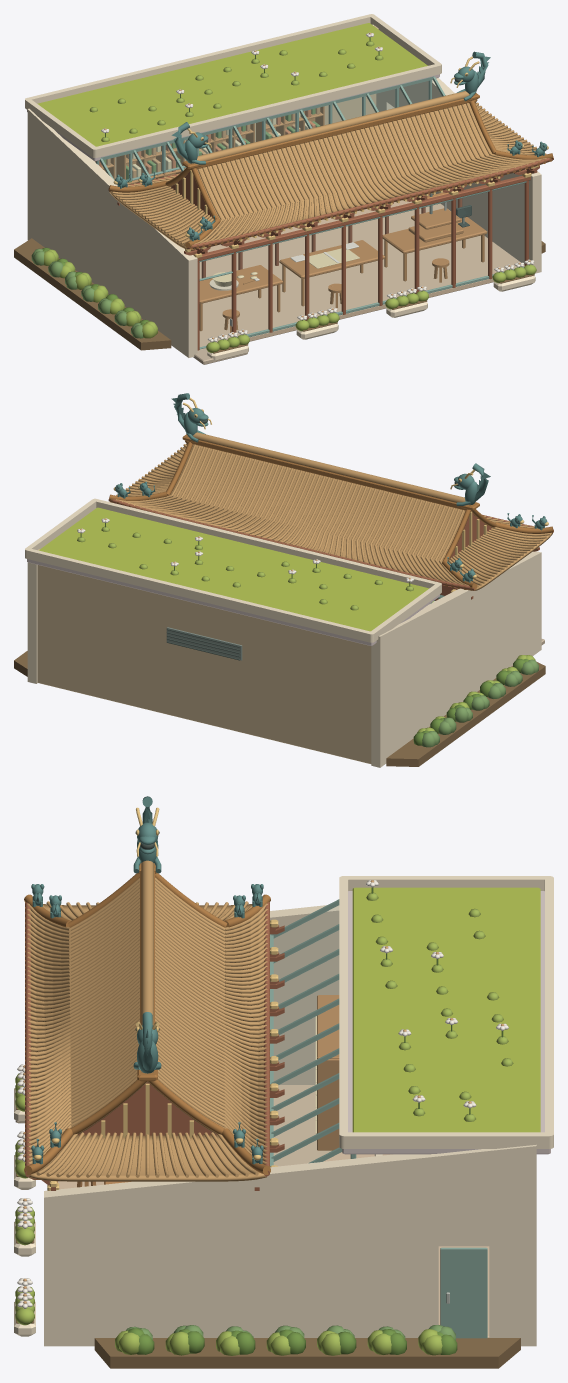
3 renders of one model, top to bottom at view 1: azimuth 30°, elevation 25°; view 2: azimuth 150°, elevation 25°; view 3: azimuth 270°, elevation 25°, orthographic. The views are drawn at different scales.
Parts seen in each view (by area): view 1: A 厚混凝土侧翼, R 保存区草屋面, R 分节筒瓦垄, S 修复中心室内地坪, R 中国歇山前后曲面瓦底, R 草屋顶矮女儿墙, I 工作桌, R 承檐木柱, R 山面分节筒瓦, L 地被与灌丛, L 侧坡种植土, R 檐下通长额枋 (+27 smaller); view 2: A 后保存库墙, A 厚混凝土侧翼, R 保存区草屋面, R 分节筒瓦垄, R 中国歇山前后曲面瓦底, R 草屋顶矮女儿墙, R 山面分节筒瓦, L 地被与灌丛, L 侧坡种植土, R 正脊脊瓦, R 正脊脊座, R 保存区屋面 (+8 smaller); view 3: A 厚混凝土侧翼, R 分节筒瓦垄, R 保存区草屋面, R 草屋顶矮女儿墙, L 侧坡种植土, L 地被与灌丛, R 歇山山面下段坡瓦, R 山面分节筒瓦, R 天窗细框, A 右后服务门, S 修复中心室内地坪, R 保存区屋面 (+16 smaller).
Part boxes in pixels (x1,y1,x2,y2): A 厚混凝土侧翼: (27,24,541,357); R 保存区草屋面: (37,23,427,146); R 分节筒瓦垄: (128,103,546,244); S 修复中心室内地坪: (199,195,524,349); R 中国歇山前后曲面瓦底: (169,103,552,249); R 草屋顶矮女儿墙: (25,14,441,157); I 工作桌: (199,217,487,331); R 承檐木柱: (197,180,528,350); R 山面分节筒瓦: (112,102,546,246); L 地被与灌丛: (31,247,157,338); L 侧坡种植土: (14,238,545,350); R 檐下通长额枋: (197,175,530,260); A 后保存库墙: (37,549,371,763); A 厚混凝土侧翼: (27,551,541,767); R 保存区草屋面: (39,507,428,631); R 分节筒瓦垄: (115,444,534,585); R 中国歇山前后曲面瓦底: (170,444,492,590); R 草屋顶矮女儿墙: (25,498,441,642); R 山面分节筒瓦: (116,444,549,587); L 地被与灌丛: (413,655,538,747); L 侧坡种植土: (14,651,545,766); R 正脊脊瓦: (187,432,470,505); R 正脊脊座: (189,440,469,510); R 保存区屋面: (27,559,439,645); A 厚混凝土侧翼: (44,905,536,1346); R 分节筒瓦垄: (27,877,267,1164); R 保存区草屋面: (352,887,540,1132); R 草屋顶矮女儿墙: (339,876,553,1148); L 侧坡种植土: (94,1338,520,1368); L 地被与灌丛: (115,1325,457,1355); R 歇山山面下段坡瓦: (28,904,266,1181); R 山面分节筒瓦: (36,901,258,1177); R 天窗细框: (270,899,342,1163); A 右后服务门: (440,1247,487,1338); S 修复中心室内地坪: (58,1085,489,1337); R 保存区屋面: (342,891,550,1154).
Size of the model in its own units: 22.6 by 10.95 by 17.1.
